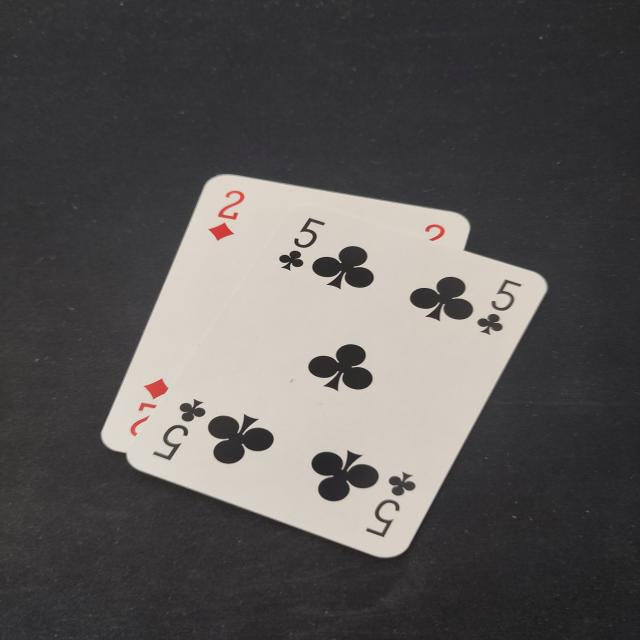2d: (122, 373, 172, 443), (206, 186, 250, 251)
5c: (361, 468, 420, 542), (145, 396, 208, 462), (474, 273, 525, 342), (274, 214, 328, 278)
